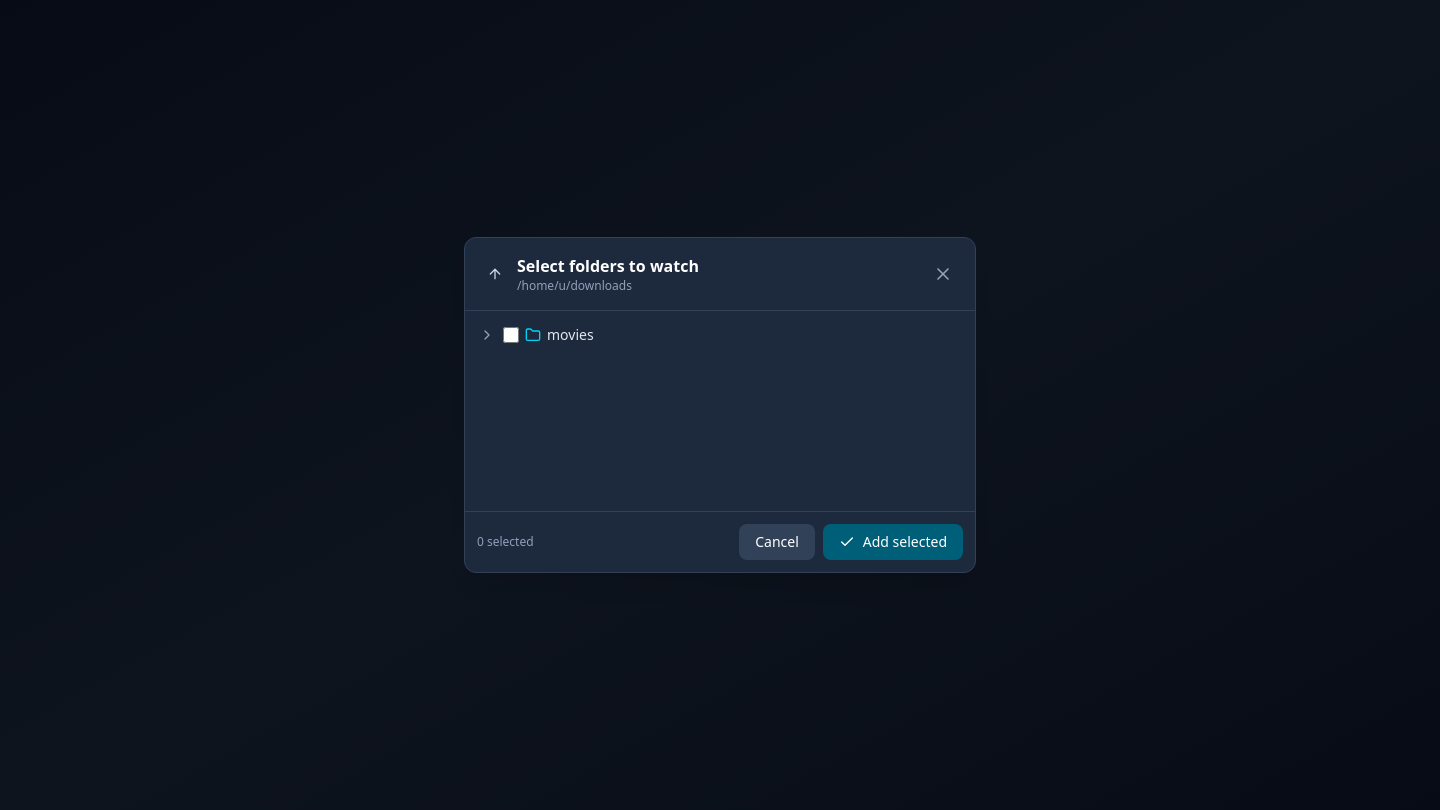
Test: FolderBrowser › Up re-roots the tree at the parent and forgets what was expanded
Check: the button "movies" is shown, box [547, 325, 959, 345]
Click the button named "Up one level".
click(495, 274)  # box [481, 260, 509, 288]
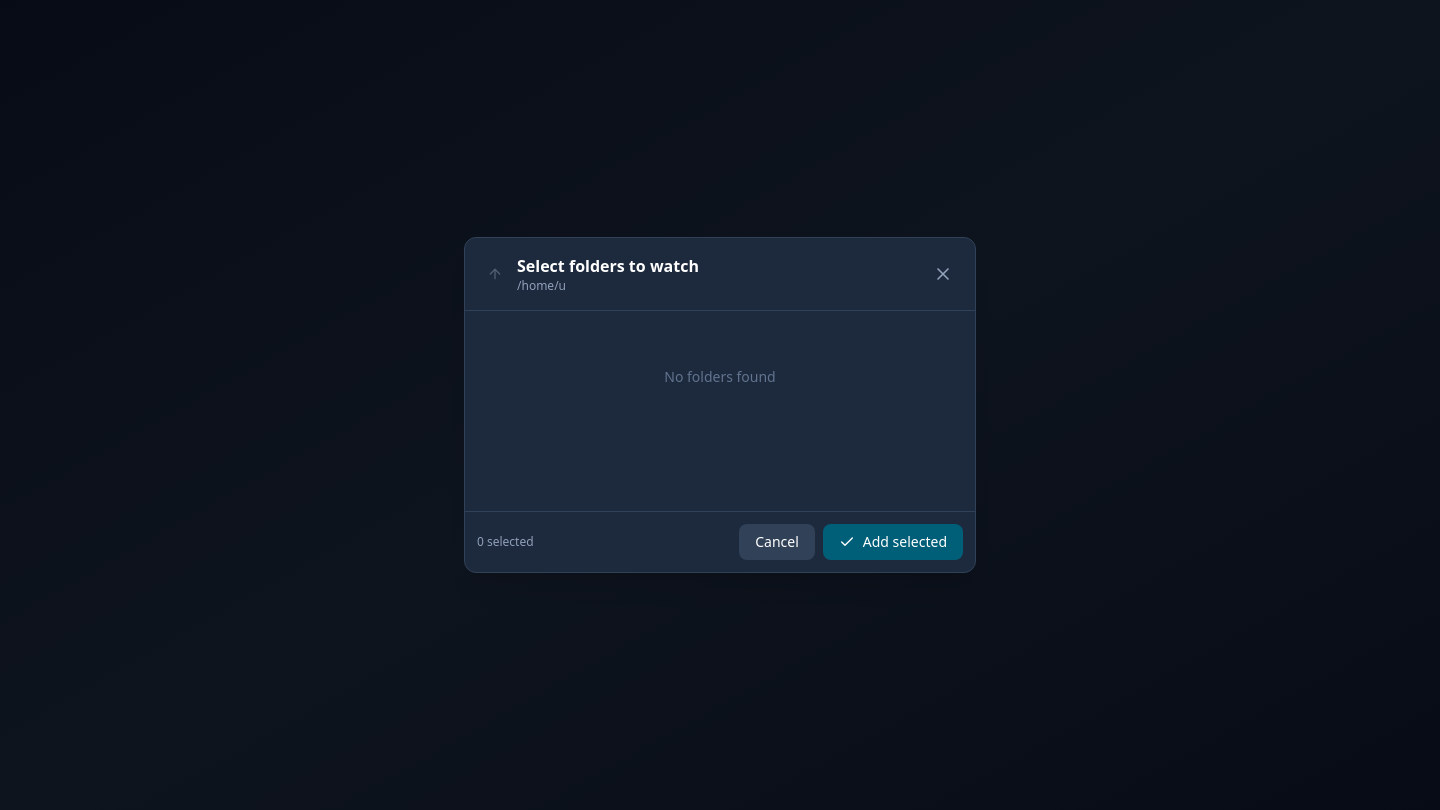
Check: the text "No folders found" is shown, box [664, 367, 776, 386]
Check: the button named "Up one level" is disabled, box [481, 260, 509, 288]
